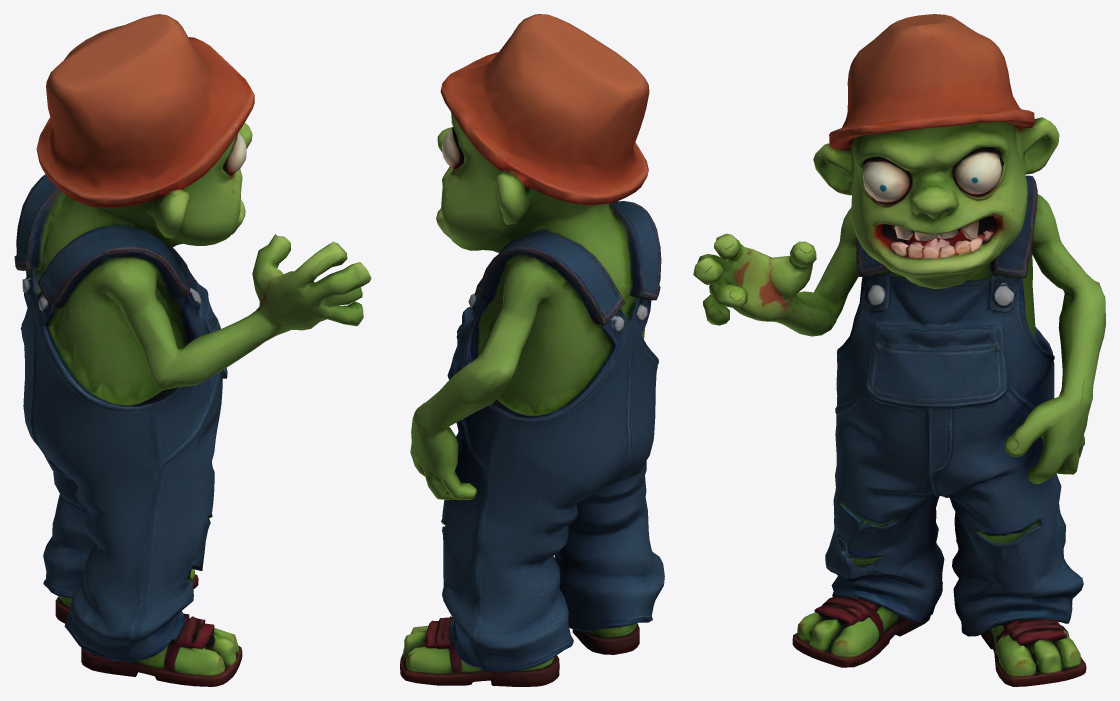
The model's file is earl.glb.
3 views of the same model, side by side, from view 1: azimuth 30°, elevation 25°; view 2: azimuth 150°, elevation 25°; view 3: azimuth 270°, elevation 25° (orthographic).
Parts seen in each view (by area): view 1: tripo_node_87d24aca-62cb-4891-8345-5dd065b4db73; view 2: tripo_node_87d24aca-62cb-4891-8345-5dd065b4db73; view 3: tripo_node_87d24aca-62cb-4891-8345-5dd065b4db73.
Boxes of the visible parts, x1=… form: tripo_node_87d24aca-62cb-4891-8345-5dd065b4db73: x1=14, y1=14, x2=371, y2=686; tripo_node_87d24aca-62cb-4891-8345-5dd065b4db73: x1=400, y1=14, x2=664, y2=686; tripo_node_87d24aca-62cb-4891-8345-5dd065b4db73: x1=693, y1=14, x2=1105, y2=686.
Bounding box in the file's own units: 0.4479 × 1.2 × 0.718.
1 material, 1 textured.
